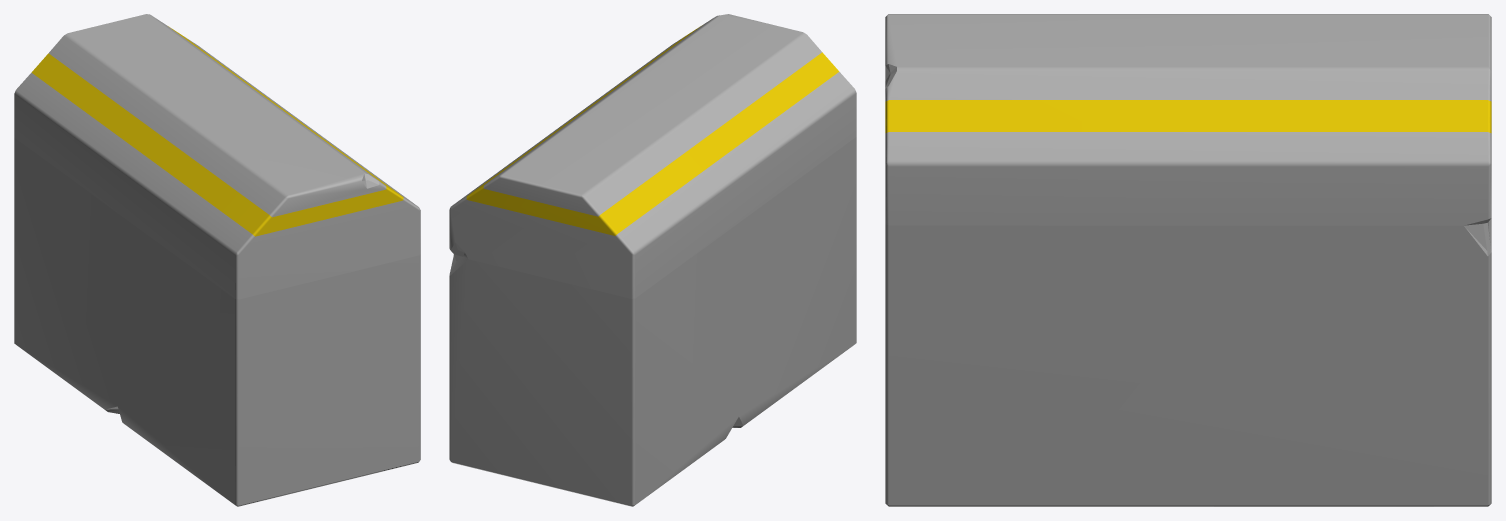
Rendered from env_building_jerseybarrier_straight.fbx.
3 views of the same model, side by side, from view 1: azimuth 30°, elevation 25°; view 2: azimuth 150°, elevation 25°; view 3: azimuth 270°, elevation 25° (orthographic). The views are drawn at different scales.
Parts seen in each view (by area): view 1: polySurface1592; view 2: polySurface1592; view 3: polySurface1592.
Part boxes in pixels (bbox=[...]): polySurface1592: bbox=[14, 14, 420, 506]; polySurface1592: bbox=[449, 14, 856, 506]; polySurface1592: bbox=[885, 14, 1491, 506].
Size of the model in its own units: 14.38 by 22.19 by 30.
